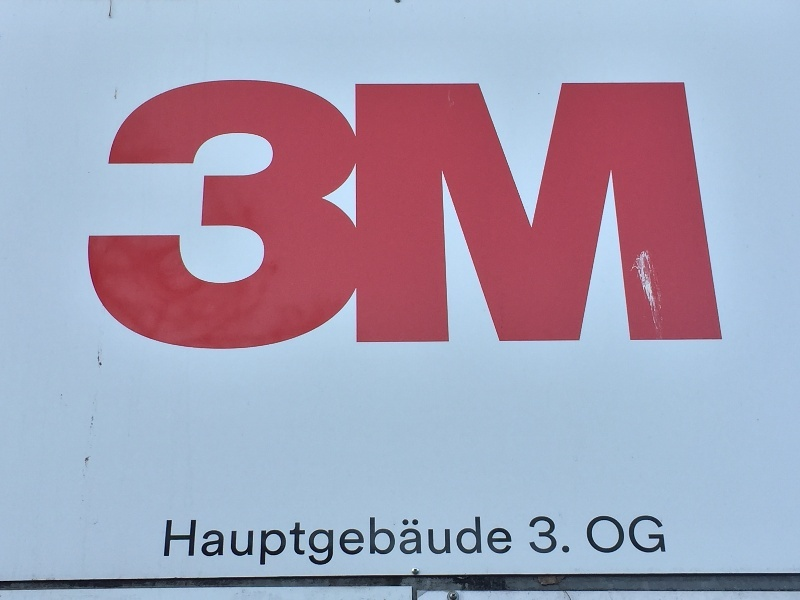text: (113, 79, 128, 356), (129, 79, 144, 356), (145, 79, 160, 356), (161, 79, 176, 356), (177, 79, 192, 356), (193, 79, 208, 356), (209, 79, 224, 356), (225, 79, 240, 356), (241, 79, 256, 356), (257, 79, 272, 356), (273, 79, 288, 356), (289, 79, 304, 356), (305, 79, 320, 356), (321, 79, 336, 356), (337, 79, 352, 356), (353, 79, 368, 356), (369, 79, 384, 356), (385, 79, 400, 356), (401, 79, 416, 356), (417, 79, 432, 356), (433, 79, 448, 356), (449, 79, 464, 356), (465, 79, 480, 356), (481, 79, 496, 356), (497, 79, 512, 356), (513, 79, 528, 356), (529, 79, 544, 356), (545, 79, 560, 356), (561, 79, 576, 356), (577, 79, 592, 356), (593, 79, 608, 356), (609, 79, 624, 356), (625, 79, 640, 356), (641, 79, 656, 356), (657, 79, 672, 356), (673, 79, 688, 356), (689, 79, 704, 356), (705, 79, 720, 356), (105, 79, 112, 356), (721, 79, 726, 356), (177, 516, 192, 572), (193, 516, 208, 572), (209, 516, 224, 572), (225, 516, 240, 572), (241, 516, 256, 572), (257, 516, 272, 572), (273, 516, 288, 572), (289, 516, 304, 572), (305, 516, 320, 572), (321, 516, 336, 572), (337, 516, 352, 572), (353, 516, 368, 572), (369, 516, 384, 572), (385, 516, 400, 572), (401, 516, 416, 572), (417, 516, 432, 572), (433, 516, 448, 572), (449, 516, 464, 572), (465, 516, 480, 572), (481, 516, 496, 572), (497, 516, 512, 572), (529, 514, 544, 560), (545, 514, 560, 560), (593, 514, 608, 558), (609, 514, 624, 558), (625, 514, 640, 558), (641, 514, 656, 558), (657, 514, 671, 558), (166, 516, 176, 572), (561, 514, 571, 560), (584, 514, 592, 558), (513, 516, 514, 572)
